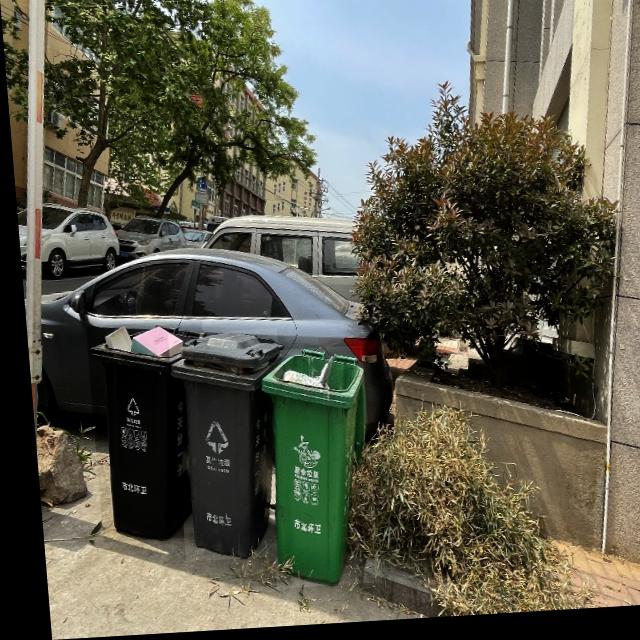overflow: (162, 331, 286, 563), (80, 322, 210, 543), (252, 350, 370, 591)
